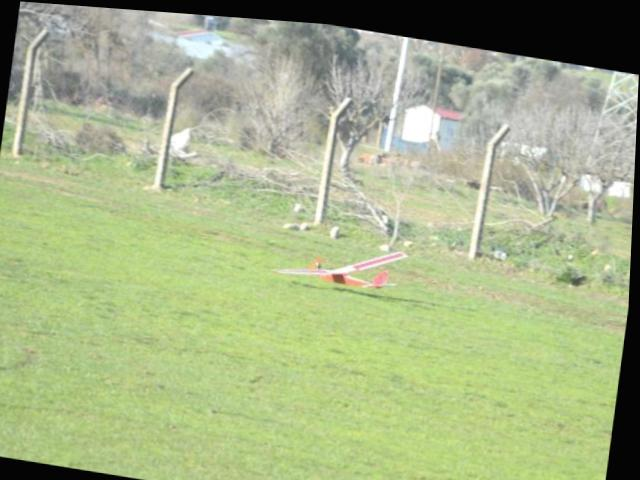iha: (259, 214, 423, 306)
